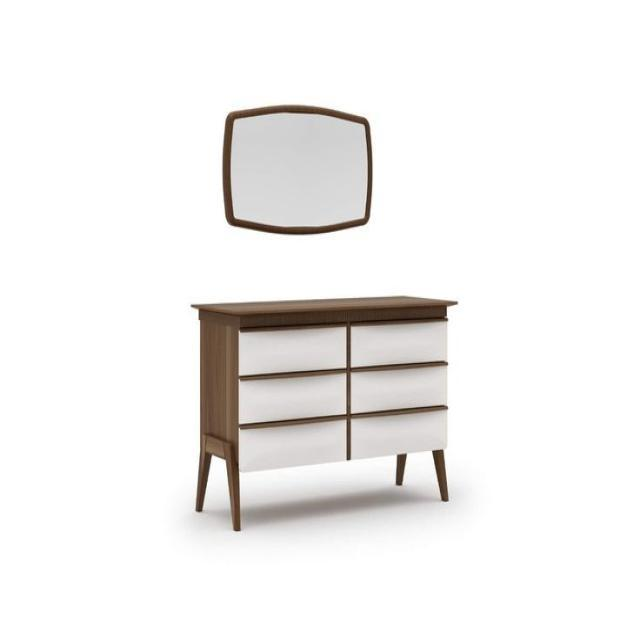obstacle: (190, 294, 458, 532)
